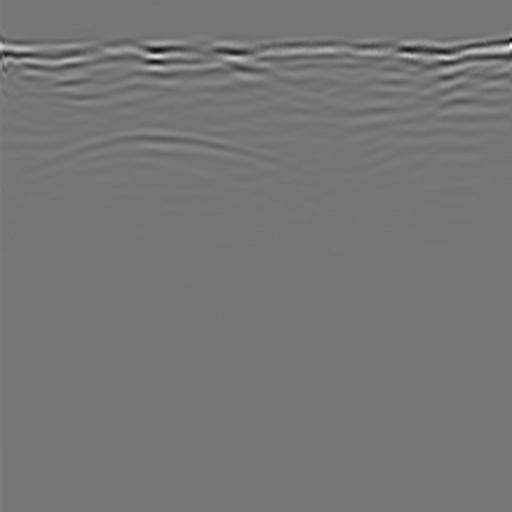hyperbola: (27, 114, 305, 206)
